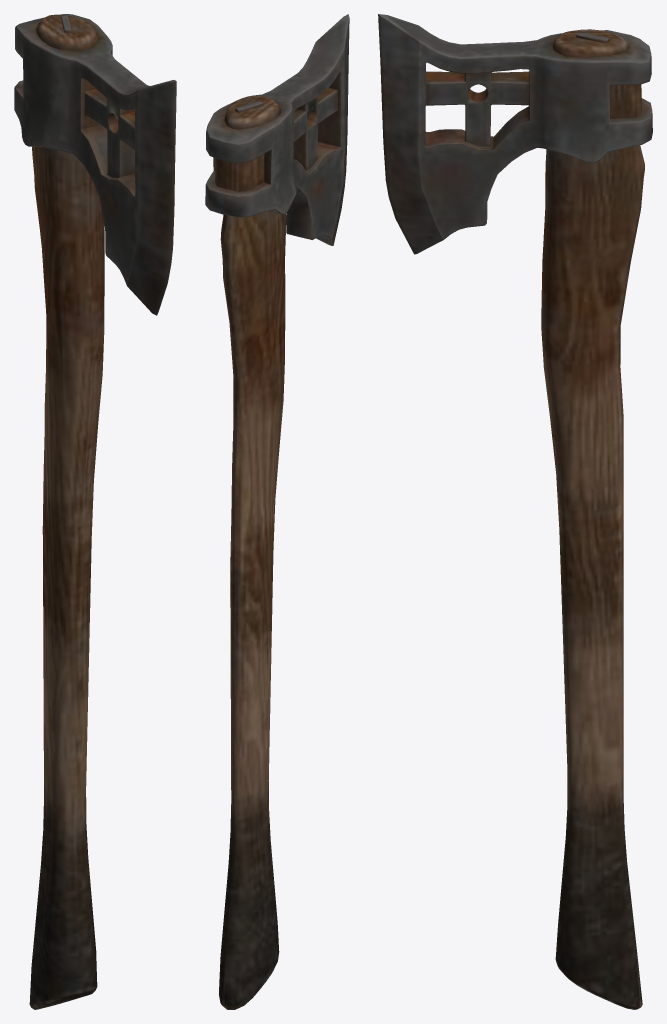
The model's file is woodsmans_axe.glb.
3 renders of one model, left to right at view 1: azimuth 30°, elevation 25°; view 2: azimuth 150°, elevation 25°; view 3: azimuth 270°, elevation 25°, orthographic. The views are drawn at different scales.
Parts seen in each view (by area): view 1: wooden_axe_03; view 2: wooden_axe_03; view 3: wooden_axe_03.
Boxes of the visible parts, box(x1,y1,x2,y2) form: wooden_axe_03: box(14, 14, 176, 1009); wooden_axe_03: box(205, 14, 349, 1009); wooden_axe_03: box(378, 14, 652, 1009).
Bounding box in the file's own units: 0.0505 × 0.6318 × 0.1583.
1 material, 1 textured.
